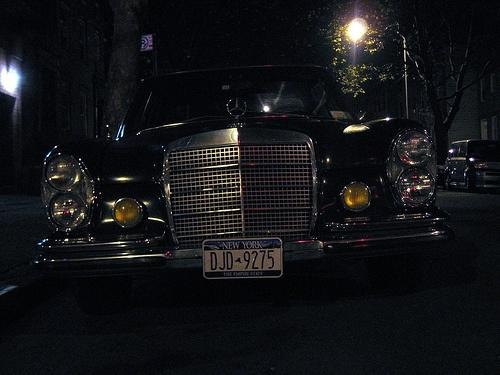car: (34, 61, 457, 320), (446, 139, 500, 194)
